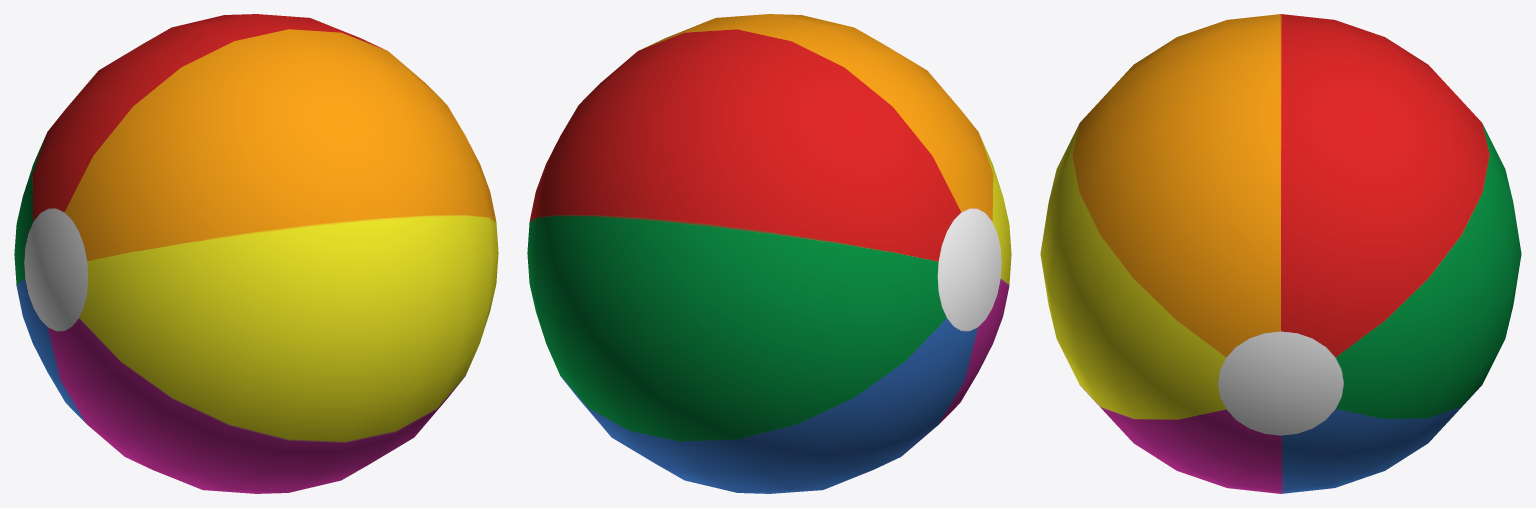
File: waterball_colorful.dae
3 views of the same model, side by side, from view 1: azimuth 30°, elevation 25°; view 2: azimuth 150°, elevation 25°; view 3: azimuth 270°, elevation 25° (orthographic).
Parts seen in each view (by area): view 1: Kugel; view 2: Kugel; view 3: Kugel.
Part boxes in pixels (x1=…): Kugel: x1=14, y1=14, x2=498, y2=493; Kugel: x1=527, y1=14, x2=1011, y2=493; Kugel: x1=1040, y1=14, x2=1521, y2=493.
Bounding box in the file's own units: 39.78 × 39.78 × 40.
Materials: 1 (1 with a texture image).
